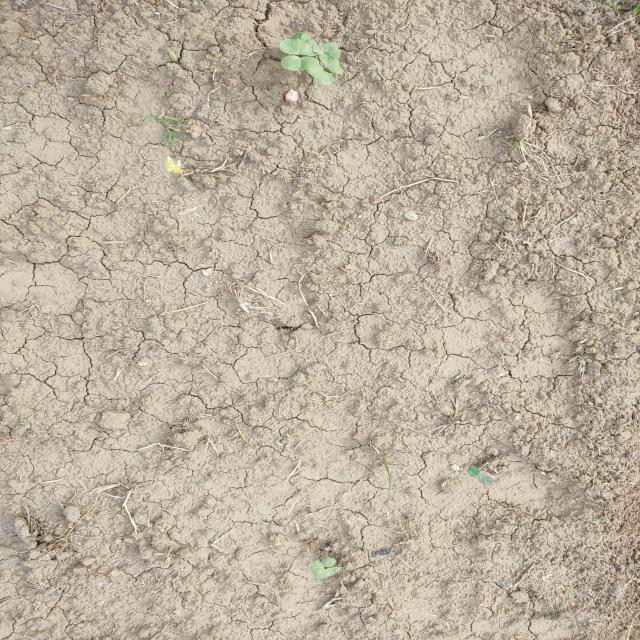seedling_s2: (280, 39, 318, 56), (281, 55, 319, 71), (308, 64, 334, 85), (319, 54, 344, 75), (310, 557, 336, 571), (314, 567, 341, 579), (312, 42, 338, 54), (294, 32, 317, 45)
